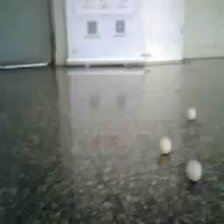w: (185, 160, 202, 181), (158, 137, 171, 153), (186, 108, 197, 120)
